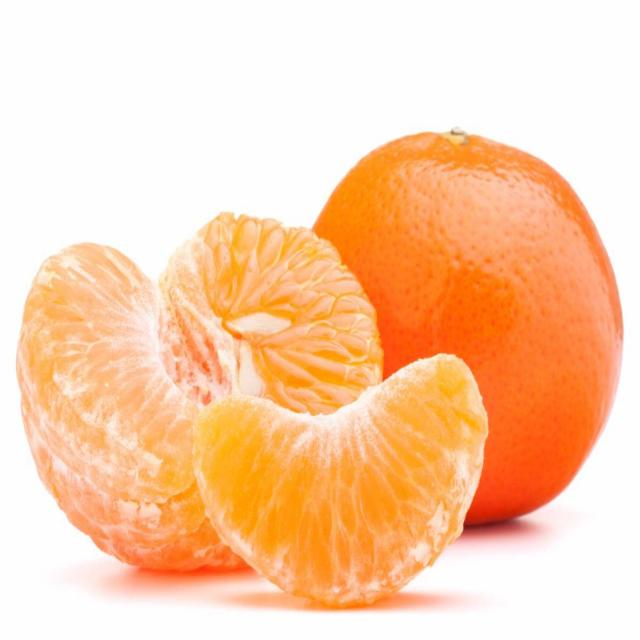10_tangerine: (13, 202, 394, 585), (304, 123, 624, 538), (198, 348, 492, 616)
